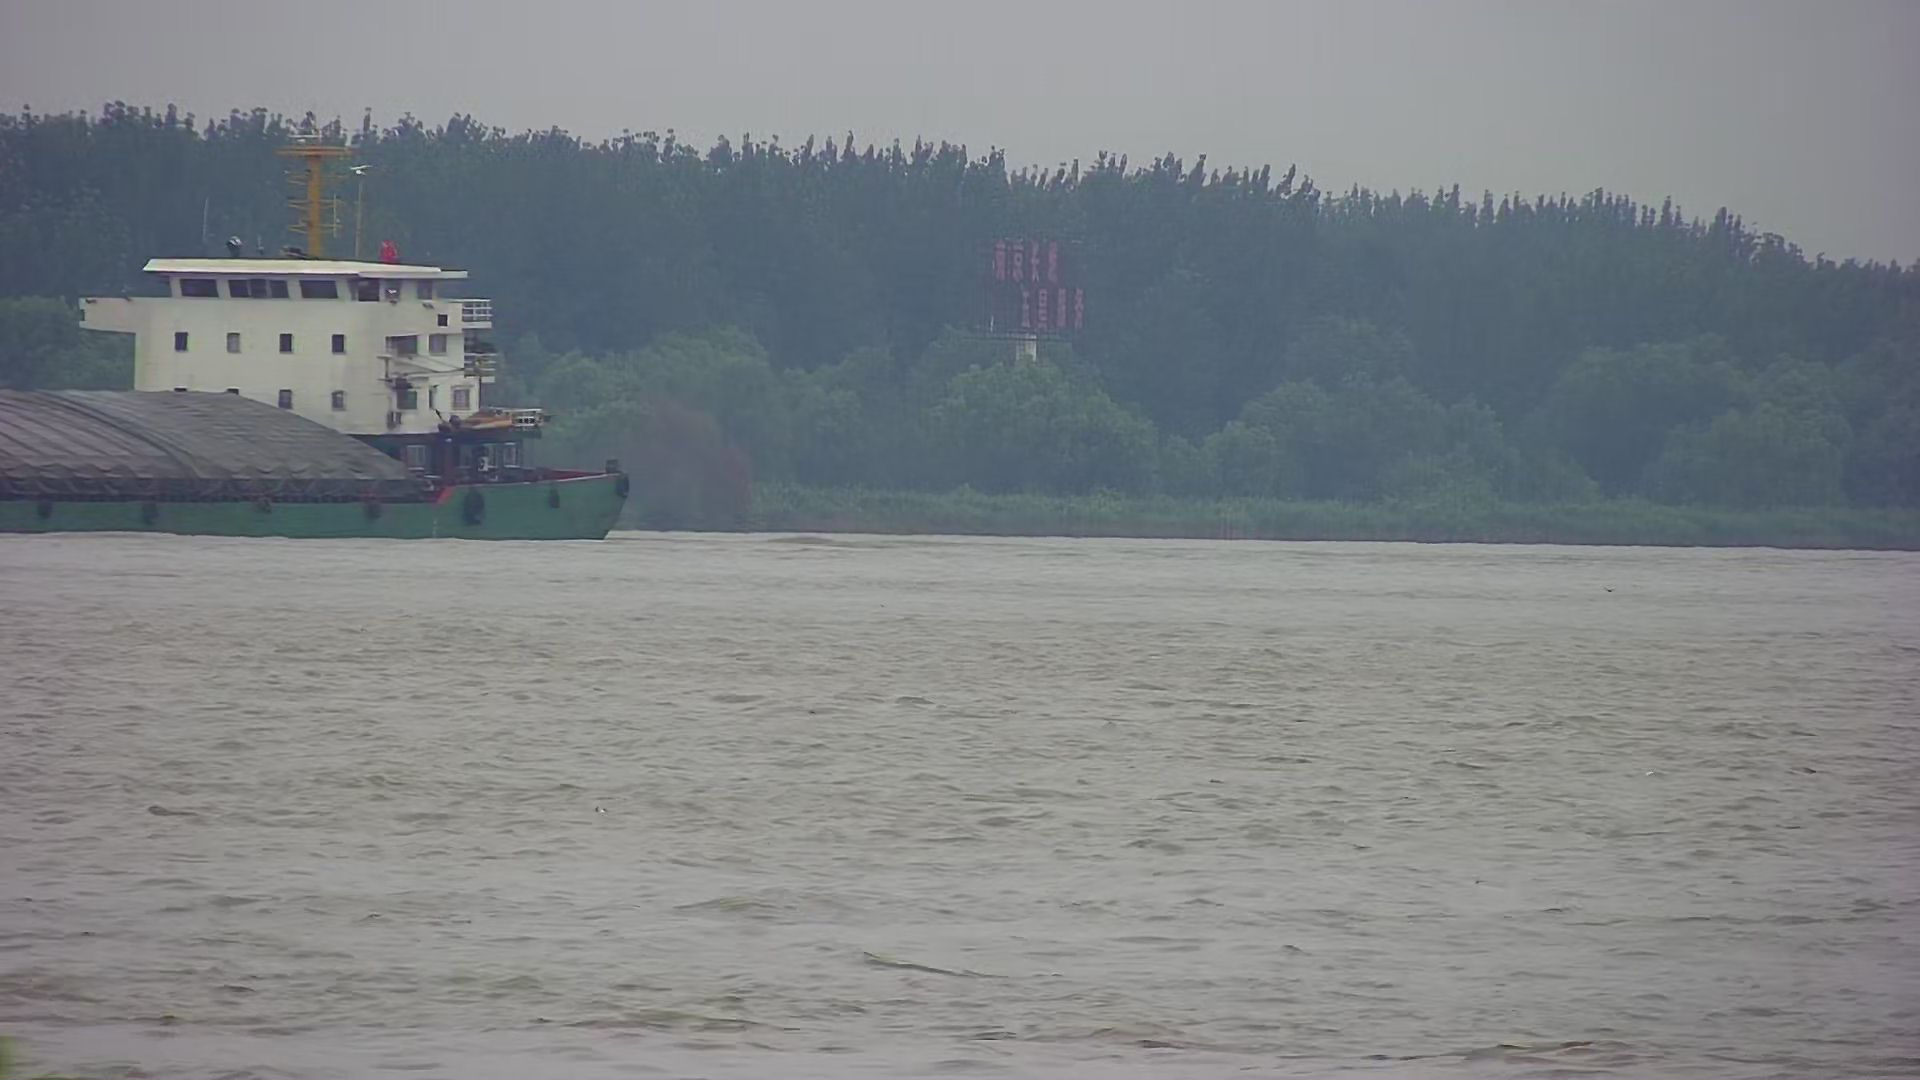ship: (1, 237, 624, 545)
